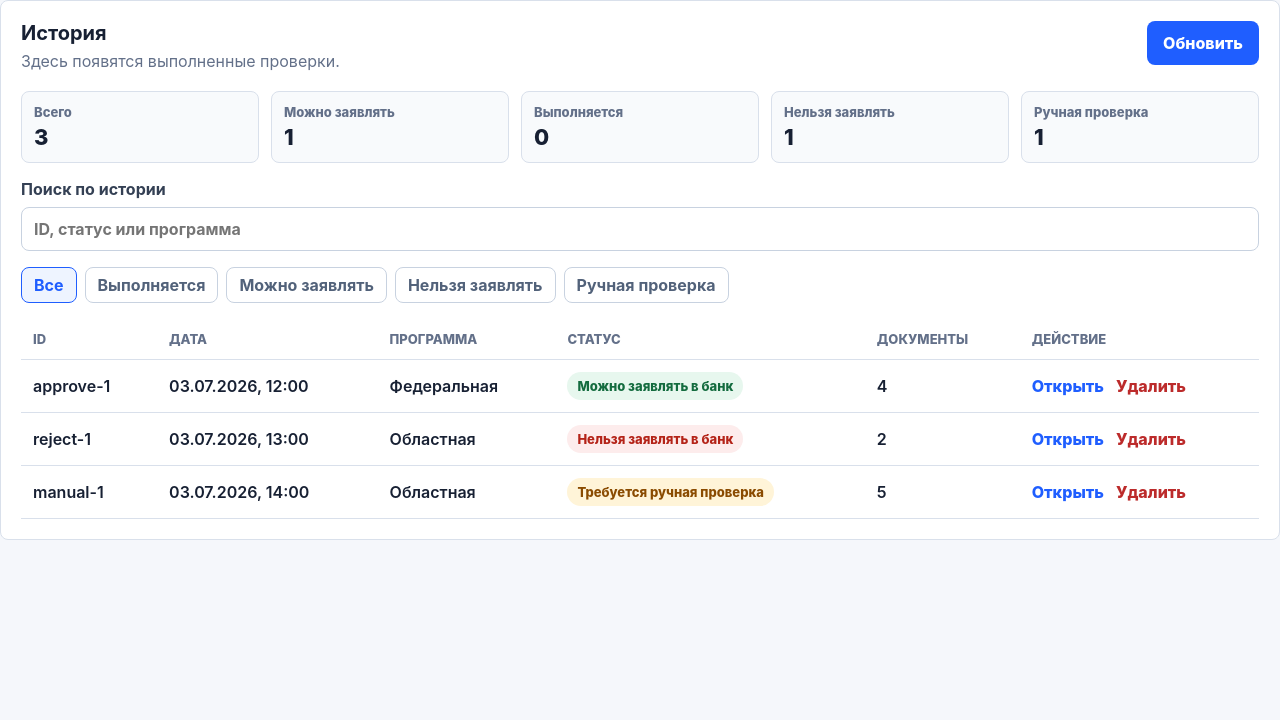
Scenario: HistoryTable › filters checks by selected status
Expected: the text "approve-1" is shown, [21,360,157,412]
Click the button "Нельзя заявлять": x=475, y=285 [395,267,556,303]
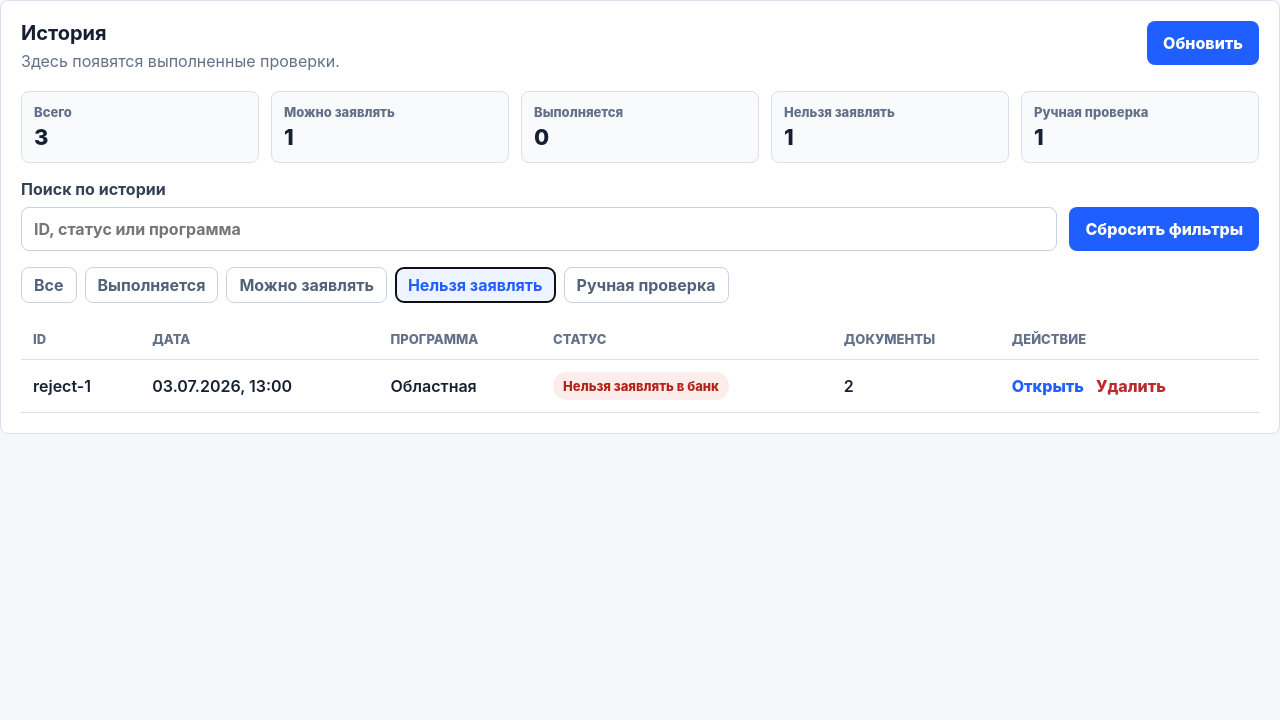
Expected: the text "reject-1" is shown, [21,360,140,412]
Now the text "approve-1" is gone
Now the text "manual-1" is gone
